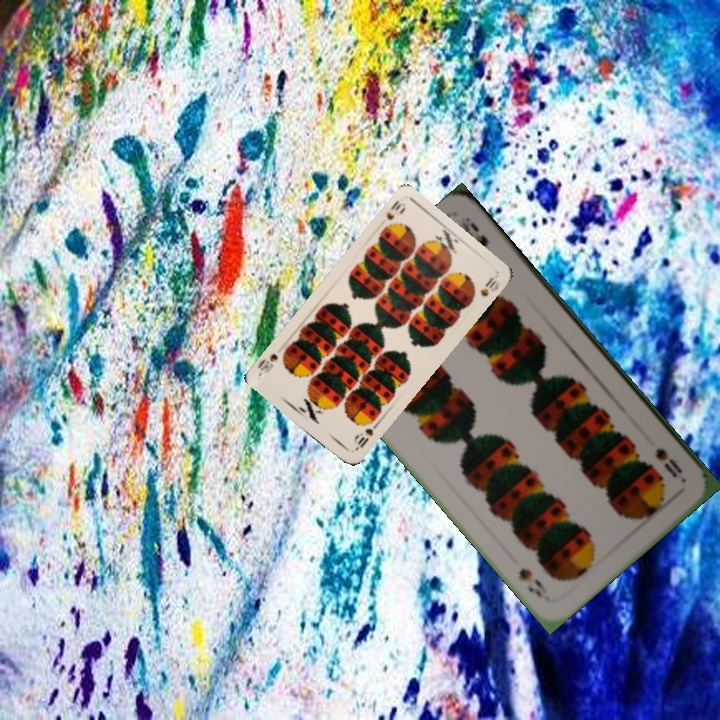S10: (379, 196, 409, 232), (350, 419, 380, 454)
S8: (651, 443, 685, 480)
